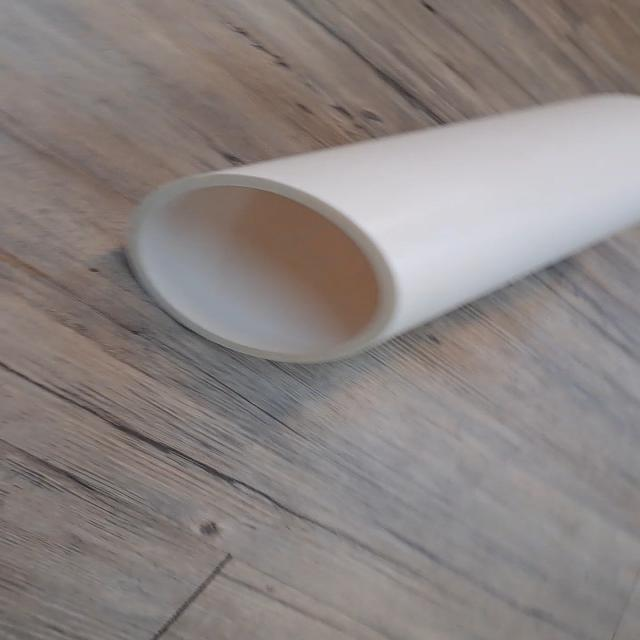CORAL: (92, 79, 640, 373)
